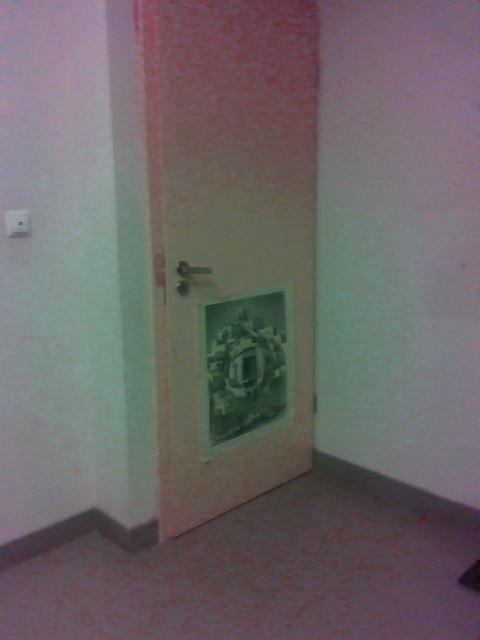closed_door: (133, 1, 319, 544)
